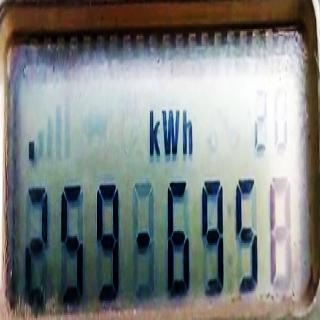-: (135, 224, 150, 254), (27, 138, 36, 163)
0: (272, 78, 290, 157)
2: (19, 174, 52, 313), (252, 79, 268, 161)
5: (57, 175, 88, 307), (234, 169, 263, 299)
6: (164, 173, 194, 302)
8: (267, 164, 295, 302)
9: (93, 171, 124, 308), (200, 176, 229, 303)
